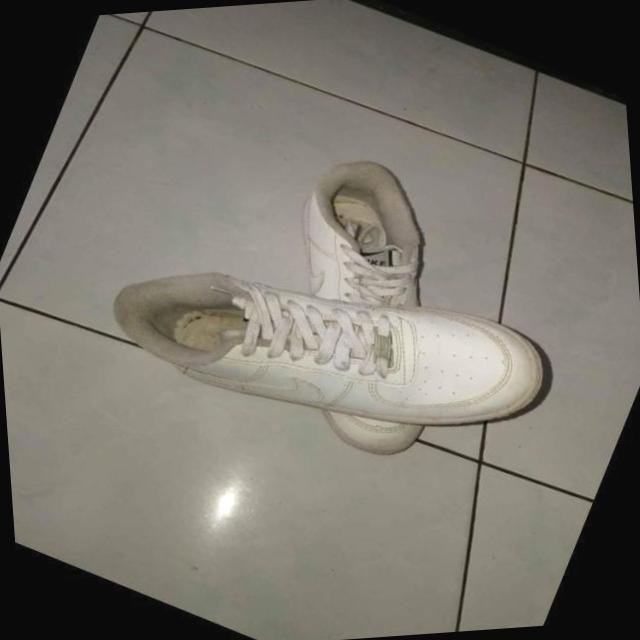nike_fake_airforce: (84, 156, 576, 534), (192, 120, 535, 485)
